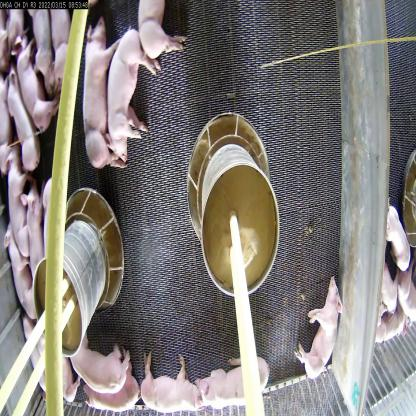Pig: (106, 16, 149, 168), (85, 3, 117, 173), (14, 25, 60, 143), (139, 340, 209, 412), (294, 275, 340, 382), (7, 63, 45, 167), (191, 357, 276, 401), (4, 222, 42, 312), (5, 150, 33, 255), (25, 180, 48, 280), (383, 205, 412, 273)
